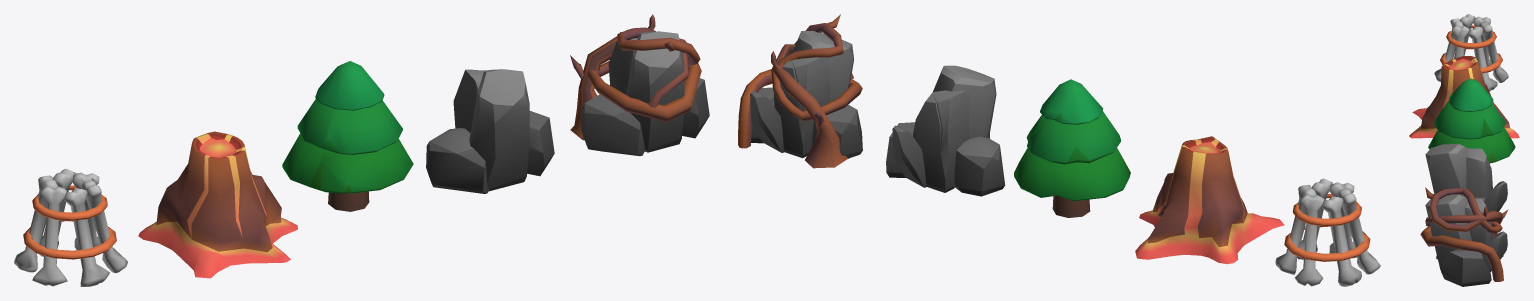
File: End_t1_a1.fbx
The picture shows the model from 3 angles, left to right: view 1: azimuth 30°, elevation 25°; view 2: azimuth 150°, elevation 25°; view 3: azimuth 270°, elevation 25°; orthographic projection. The views are drawn at different scales.
Parts seen in each view (by area): view 1: End_t1_a1_v3, End_t1_a1_v4, End_t1_a1_v5, End_t1_a1_v2, End_t1_a1_v1; view 2: End_t1_a1_v3, End_t1_a1_v2, End_t1_a1_v4, End_t1_a1_v5, End_t1_a1_v1; view 3: End_t1_a1_v3, End_t1_a1_v5, End_t1_a1_v2, End_t1_a1_v1, End_t1_a1_v4.
Boxes of the visible parts, bbox=[...] form: End_t1_a1_v3: bbox=[570, 14, 709, 156]; End_t1_a1_v4: bbox=[138, 131, 297, 278]; End_t1_a1_v5: bbox=[282, 61, 413, 211]; End_t1_a1_v2: bbox=[426, 69, 554, 193]; End_t1_a1_v1: bbox=[14, 169, 127, 286]; End_t1_a1_v3: bbox=[738, 14, 862, 168]; End_t1_a1_v2: bbox=[886, 65, 1005, 196]; End_t1_a1_v4: bbox=[1135, 136, 1284, 264]; End_t1_a1_v5: bbox=[1014, 79, 1130, 217]; End_t1_a1_v1: bbox=[1275, 178, 1380, 286]; End_t1_a1_v3: bbox=[1420, 187, 1508, 286]; End_t1_a1_v5: bbox=[1428, 78, 1515, 163]; End_t1_a1_v2: bbox=[1425, 143, 1507, 211]; End_t1_a1_v1: bbox=[1434, 14, 1508, 91]; End_t1_a1_v4: bbox=[1409, 56, 1519, 138].
Bounding box in the file's own units: 23.16 × 4.64 × 4.91.
